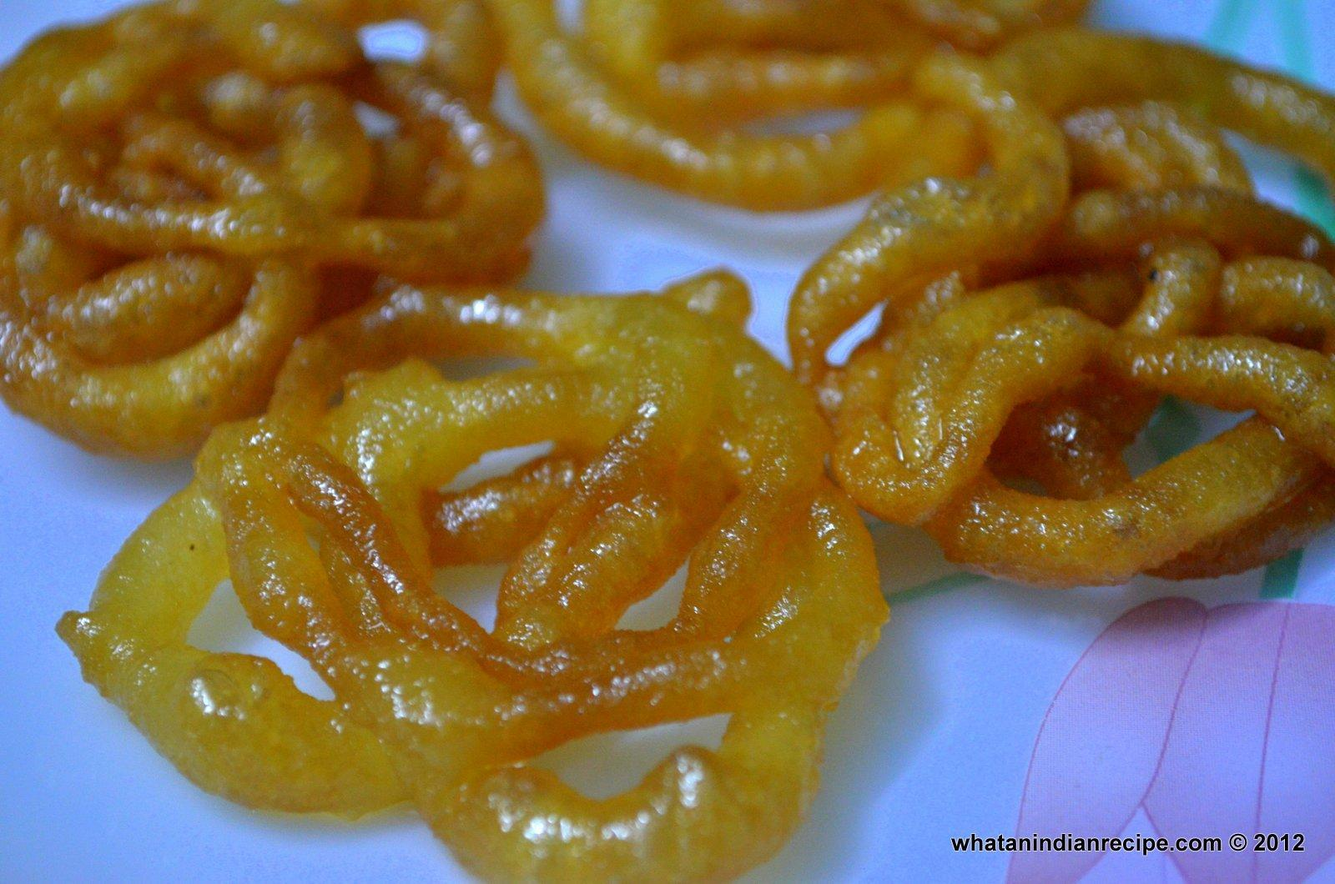jalebi: (14, 21, 1329, 884)
